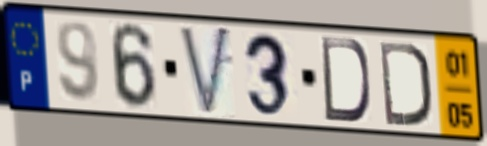3: (242, 29, 298, 122)
6: (107, 19, 161, 113)
9: (53, 19, 102, 105)
D: (376, 38, 434, 130), (318, 34, 374, 126)
V: (176, 23, 234, 121)
